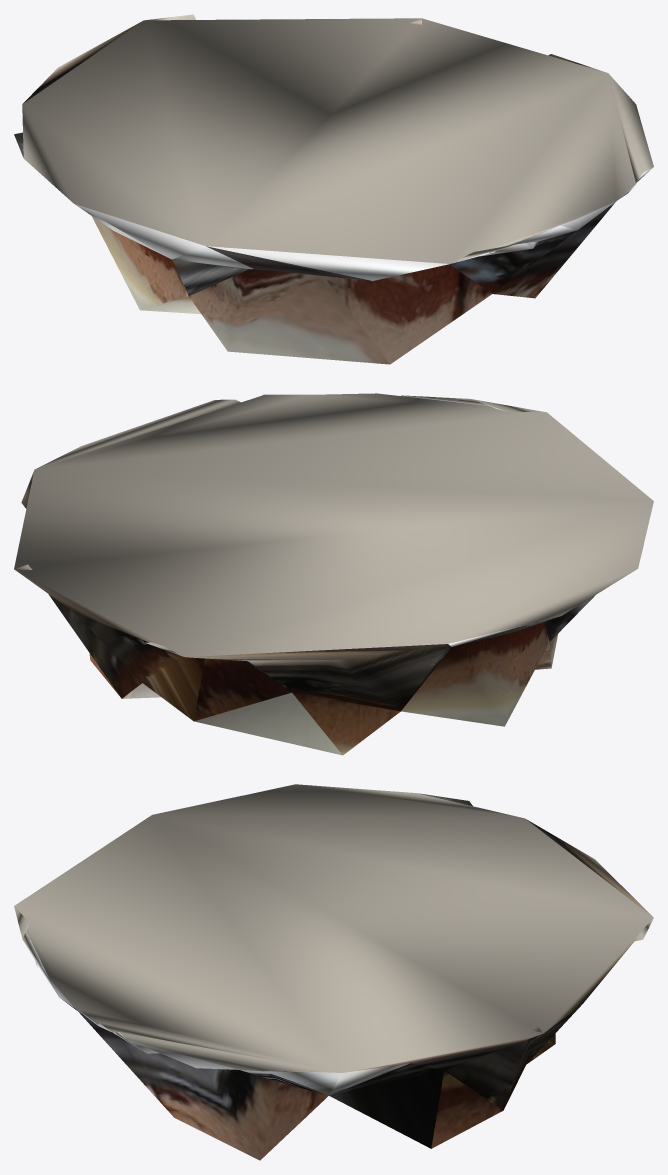
Rendered from cake_140.obj.
3 views of the same model, one above another, from view 1: azimuth 30°, elevation 25°; view 2: azimuth 150°, elevation 25°; view 3: azimuth 270°, elevation 25° (orthographic). The views are drawn at different scales.
Bounding box in the file's own units: 0.179 × 0.0495 × 0.182.
Materials: 1 (1 with a texture image).
